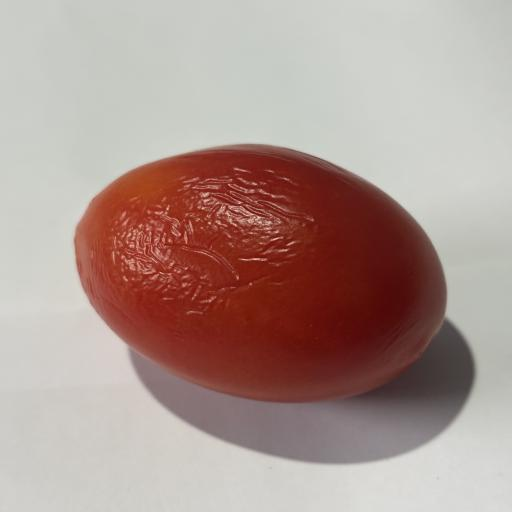spoiled: (75, 145, 446, 402)
